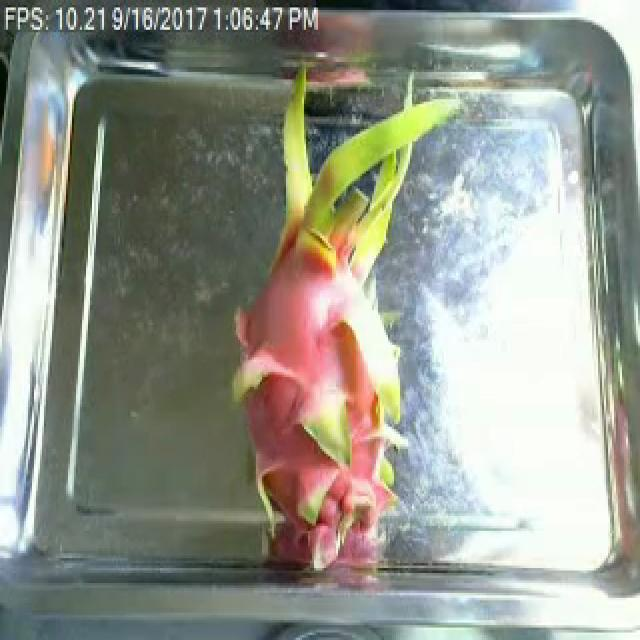fruit: (212, 57, 452, 489)
